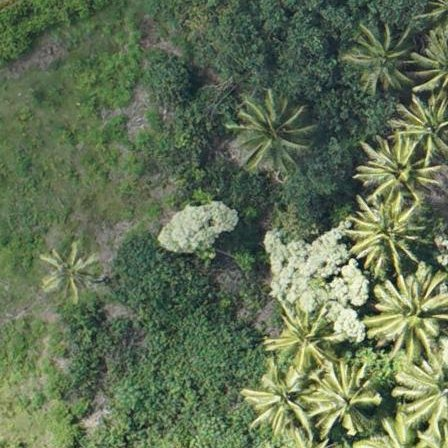palm_tree: (375, 266, 448, 352), (229, 93, 305, 175), (346, 197, 421, 267), (344, 23, 415, 96), (366, 133, 429, 200), (36, 237, 100, 302), (251, 367, 315, 432), (316, 363, 377, 431), (271, 306, 334, 369), (391, 96, 448, 155)
